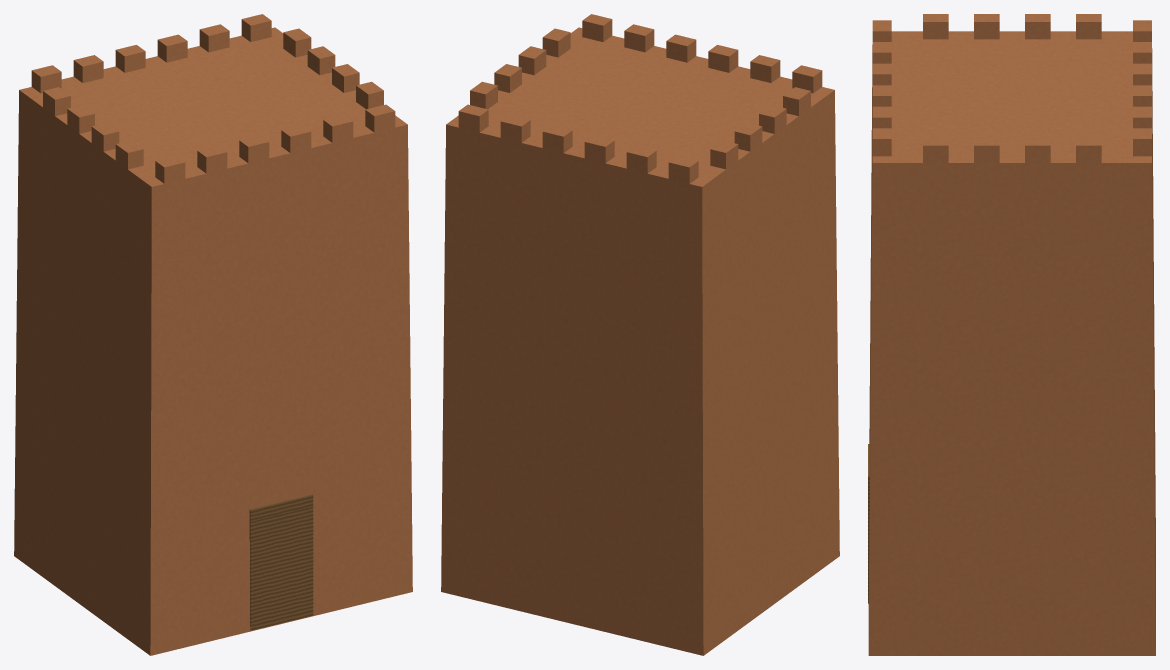
The model's file is SM_Souq_Warehouse_W5D45_Crenel.fbx.
3 views of the same model, side by side, from view 1: azimuth 30°, elevation 25°; view 2: azimuth 150°, elevation 25°; view 3: azimuth 270°, elevation 25° (orthographic). The views are drawn at different scales.
Visible parts, largest first — view 1: SM_Souq_Warehouse_W5D45_Crenel; view 2: SM_Souq_Warehouse_W5D45_Crenel; view 3: SM_Souq_Warehouse_W5D45_Crenel.
Part boxes in pixels (x1,y1,x2,y2): SM_Souq_Warehouse_W5D45_Crenel: (14,14,412,655); SM_Souq_Warehouse_W5D45_Crenel: (441,14,839,655); SM_Souq_Warehouse_W5D45_Crenel: (868,14,1155,655).
Size of the model in its own units: 5 by 8.8 by 4.51.
Materials: 2 (2 with a texture image).
